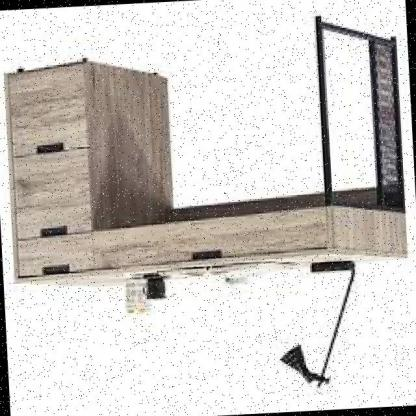Table: (0, 16, 416, 302)
